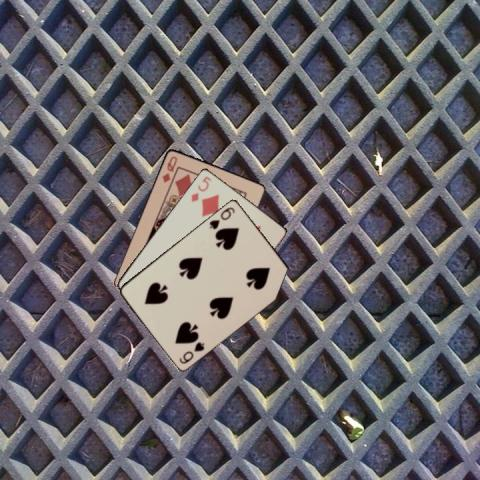5d: (188, 173, 213, 203)
6s: (206, 204, 236, 231), (176, 338, 206, 364)
Qd: (159, 153, 179, 184)
